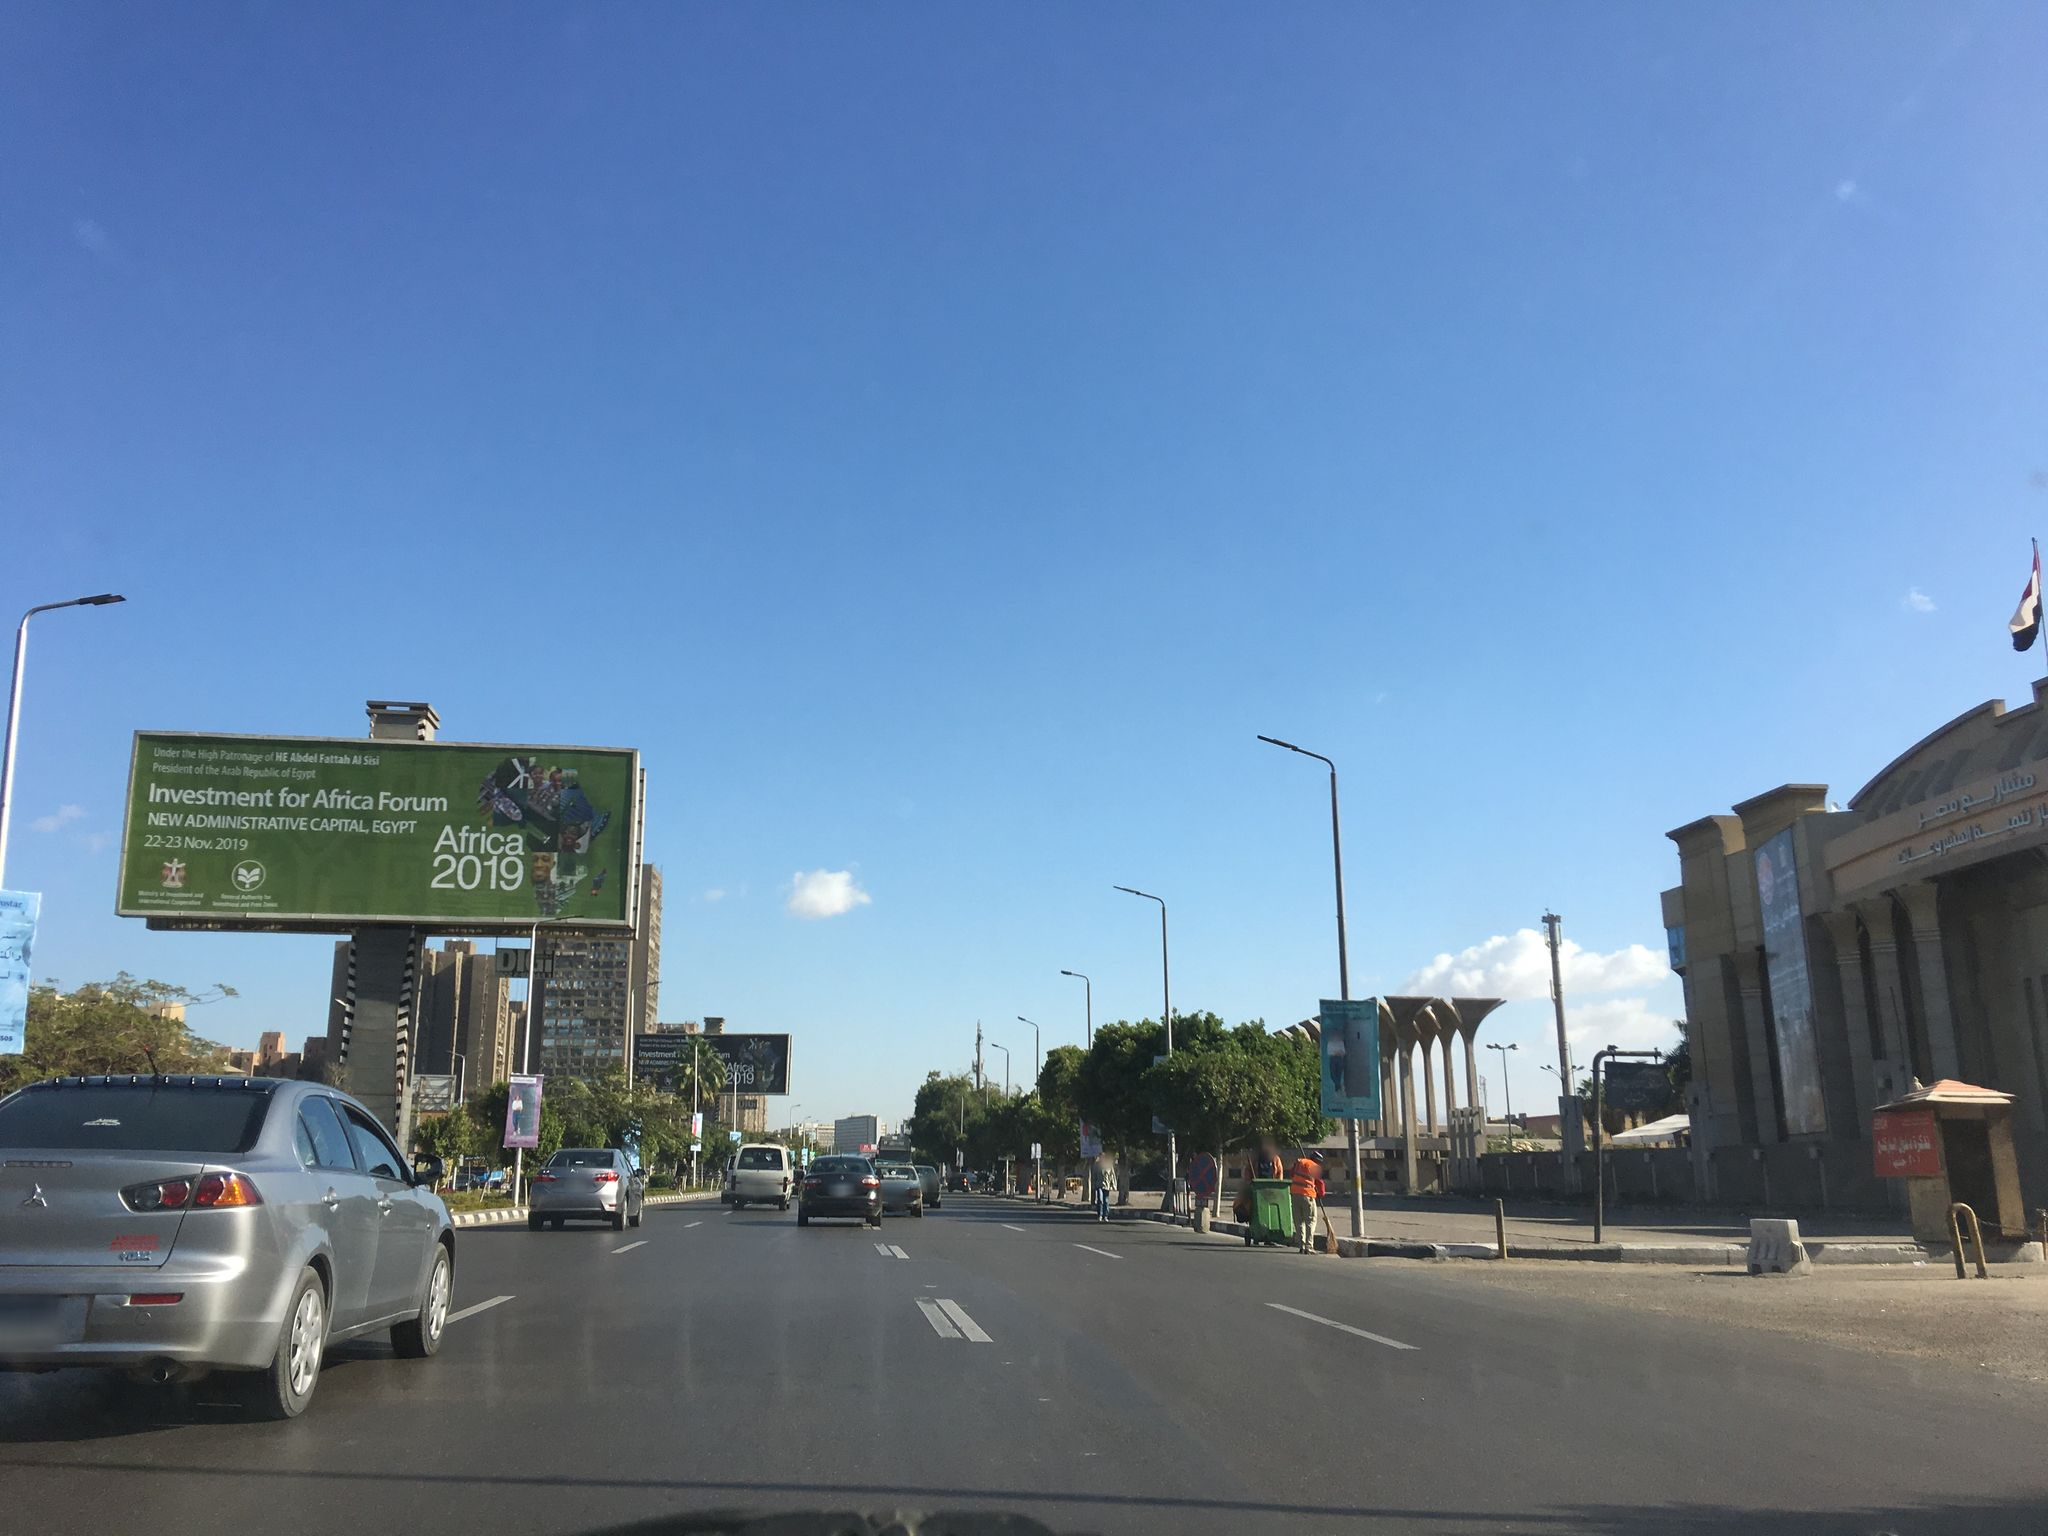car: (0, 1063, 458, 1413), (526, 1149, 647, 1231), (797, 1155, 884, 1225), (731, 1141, 795, 1210), (872, 1163, 924, 1217), (913, 1163, 942, 1208)
